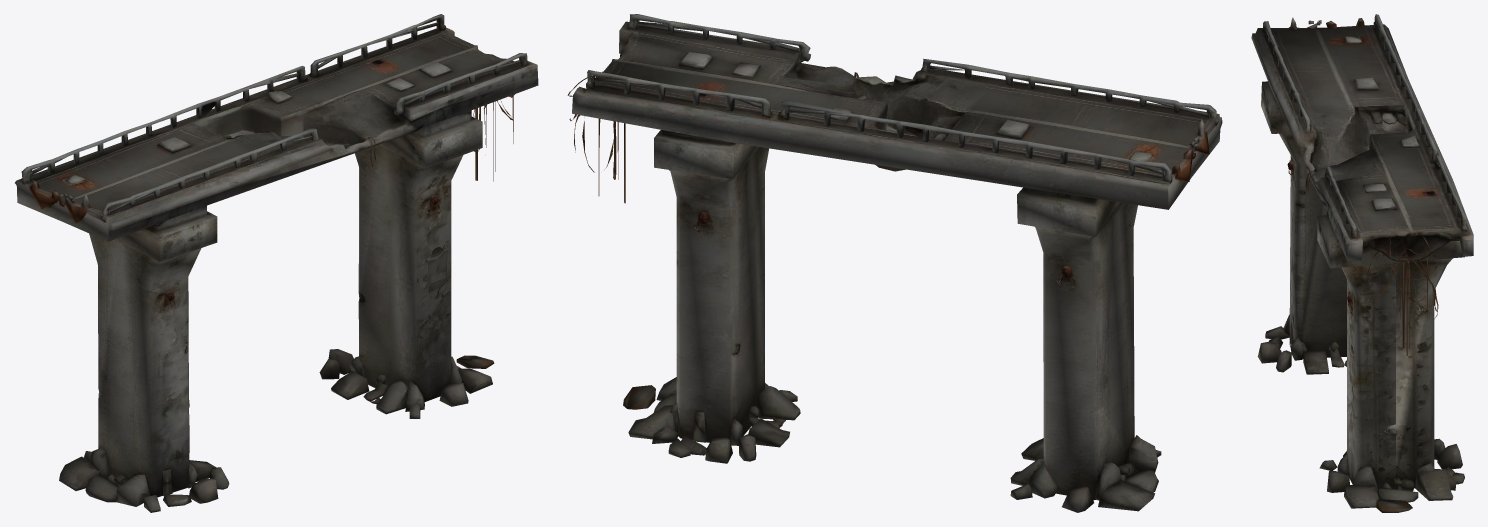
The model's file is collapsed_highway_bridge.glb.
3 views of the same model, side by side, from view 1: azimuth 30°, elevation 25°; view 2: azimuth 150°, elevation 25°; view 3: azimuth 270°, elevation 25° (orthographic). The views are drawn at different scales.
Visible parts, largest first — view 1: tripo_node_b15e9393-ef7a-401c-a483-bb6fd646f9e7; view 2: tripo_node_b15e9393-ef7a-401c-a483-bb6fd646f9e7; view 3: tripo_node_b15e9393-ef7a-401c-a483-bb6fd646f9e7.
Part boxes in pixels (left/top/right/bottom): tripo_node_b15e9393-ef7a-401c-a483-bb6fd646f9e7: left=15, top=14, right=538, bottom=512; tripo_node_b15e9393-ef7a-401c-a483-bb6fd646f9e7: left=567, top=14, right=1222, bottom=512; tripo_node_b15e9393-ef7a-401c-a483-bb6fd646f9e7: left=1251, top=14, right=1473, bottom=512.
Bounding box in the file's own units: 0.998 × 0.6035 × 0.4082.
Materials: 1 (1 with a texture image).
